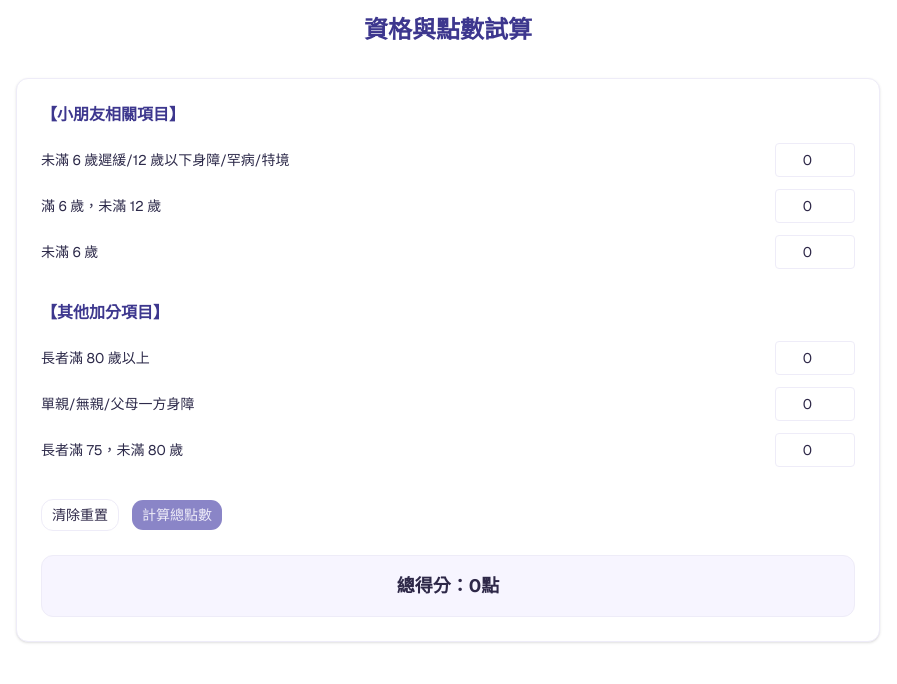
Test case: EligibilityCalculator › shows ineligible message when no child selected
This screenshot has width=897, height=684.
Click the button "計算總點數".
click(177, 515)  # box top-left (131, 499), bottom-right (223, 531)
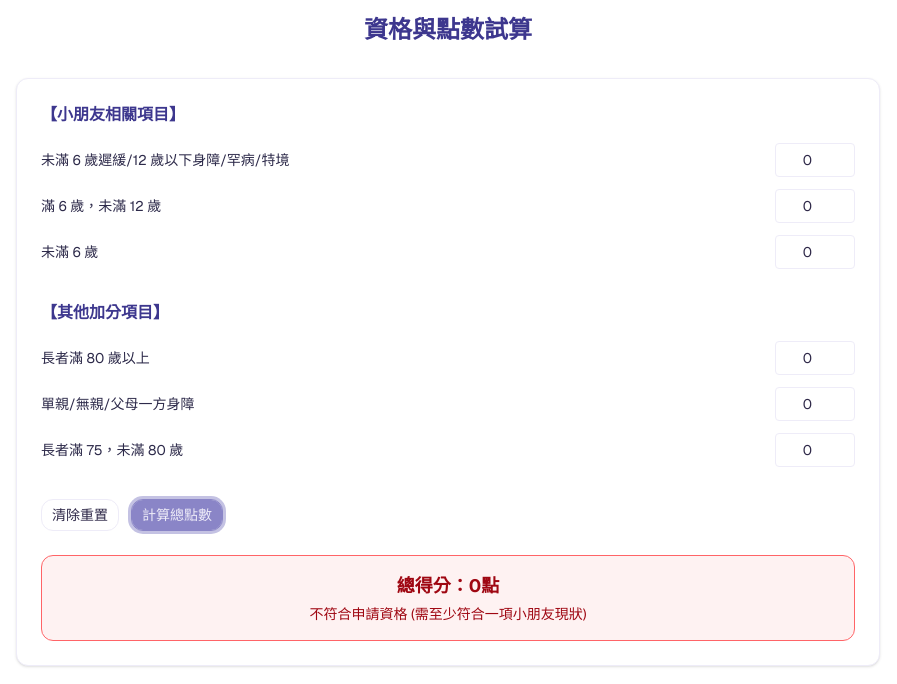
Expected: the text "不符合申請資格 (需至少符合一項小朋友現狀)" is shown, top-left (309, 605), bottom-right (587, 623)
